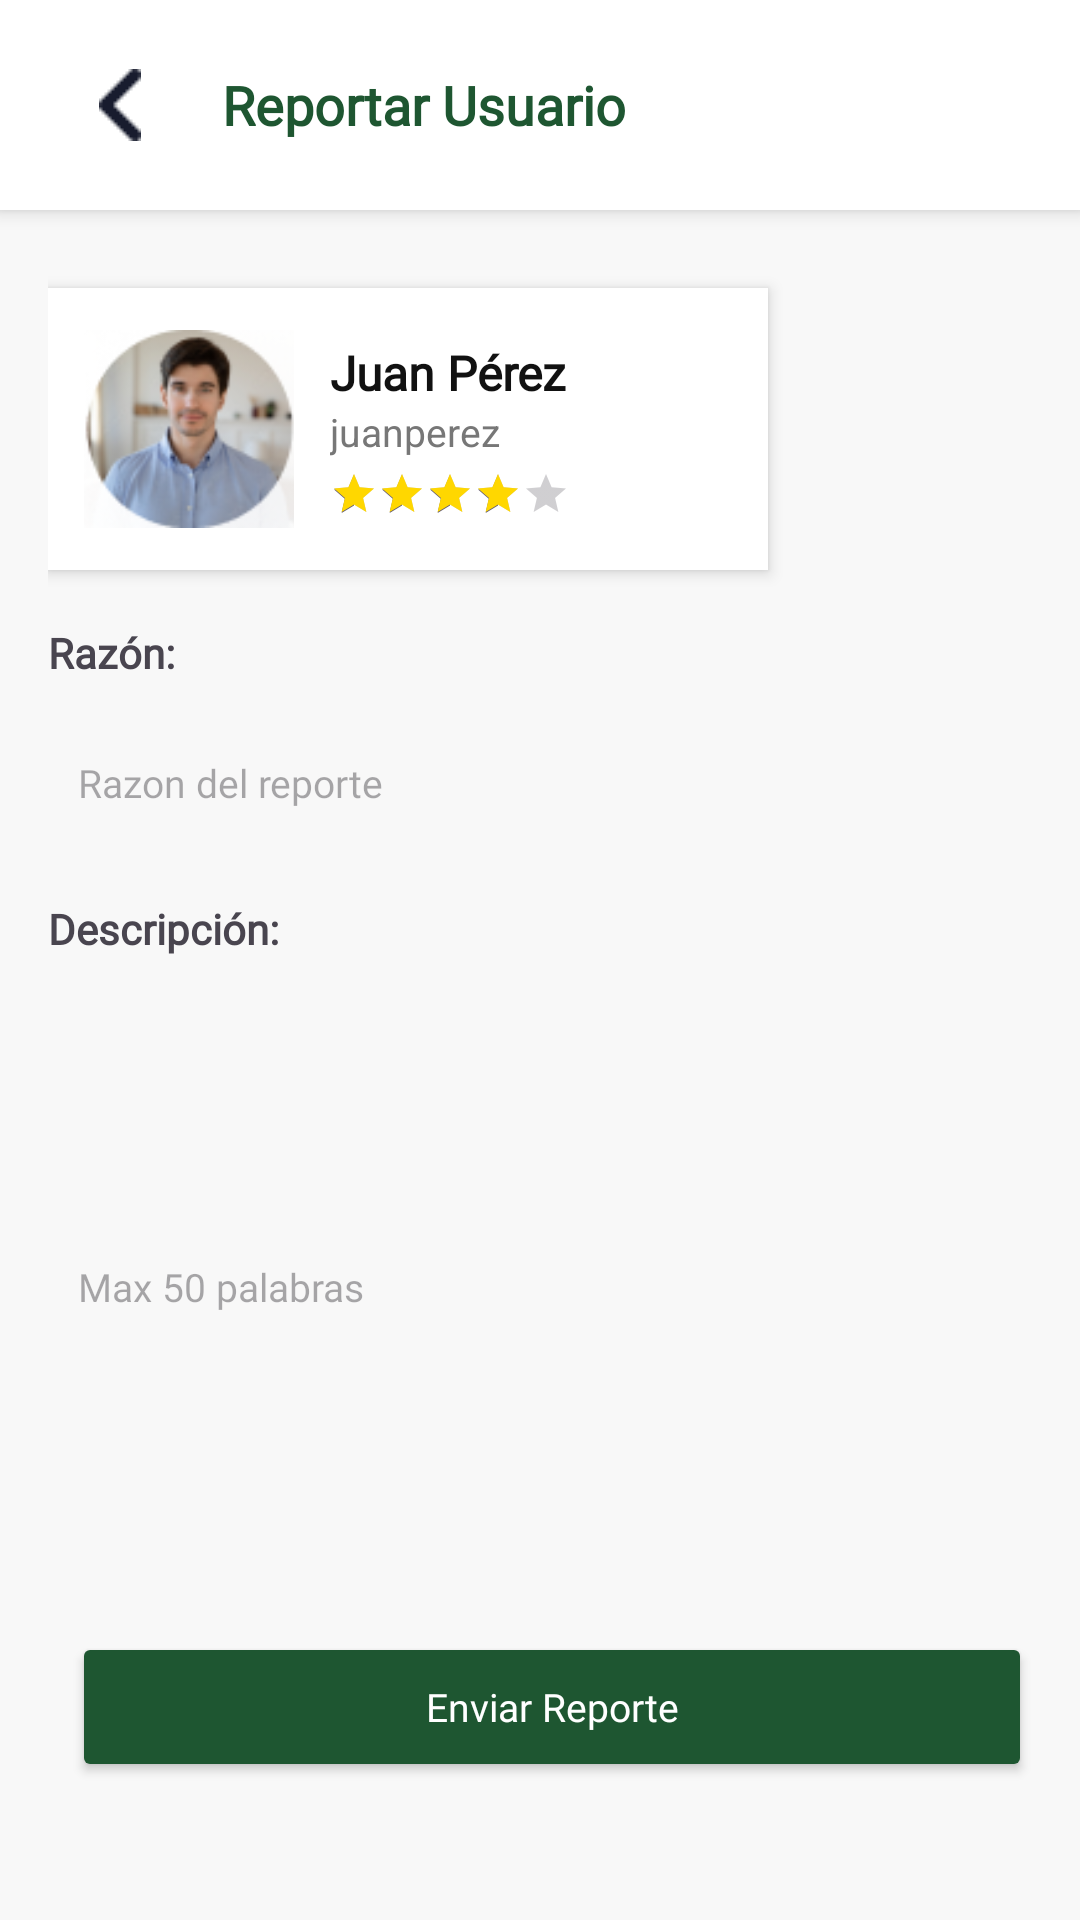

Icons on this 1080*1920 Android screen, each with its box as (x1, y1, x2, y2):
back: (99, 69, 141, 141)
user: (85, 330, 294, 528)
